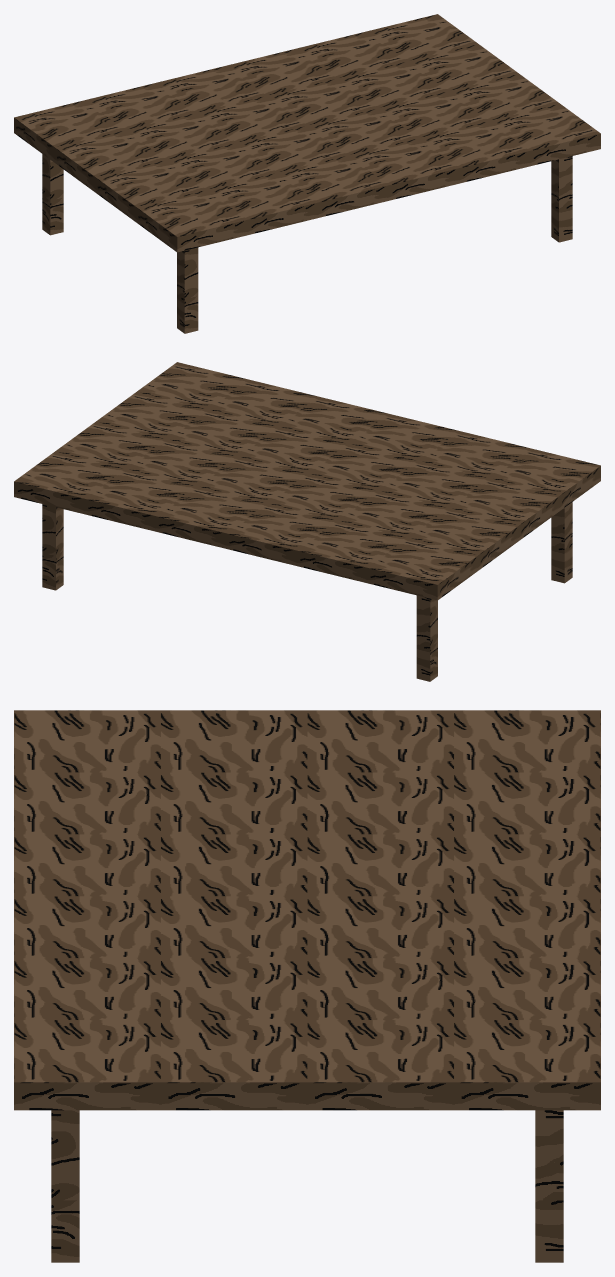
The model's file is table2.glb.
The picture shows the model from 3 angles, top to bottom: view 1: azimuth 30°, elevation 25°; view 2: azimuth 150°, elevation 25°; view 3: azimuth 270°, elevation 25°; orthographic projection. The views are drawn at different scales.
Parts seen in each view (by area): view 1: Plane; view 2: Plane; view 3: Plane.
Boxes of the visible parts, x1,y1,x2,y2 form: Plane: (14, 14, 600, 333); Plane: (14, 362, 600, 681); Plane: (14, 710, 600, 1262).
Bounding box in the file's own units: 6.01 × 1.48 × 4.01.
Materials: 1 (1 with a texture image).
